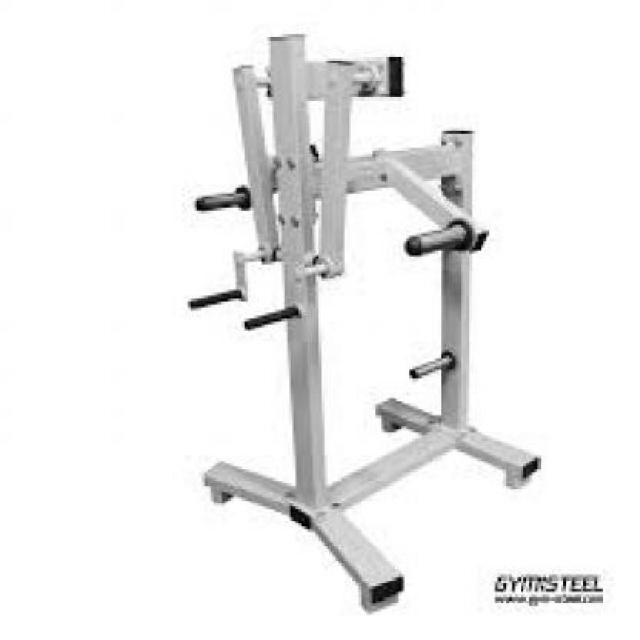lateral raises machine: (189, 32, 543, 566)
